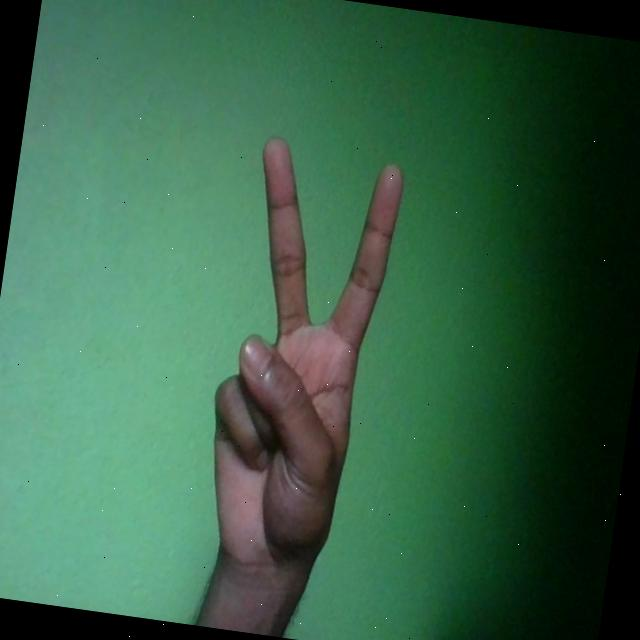Fist: (190, 132, 408, 595)
